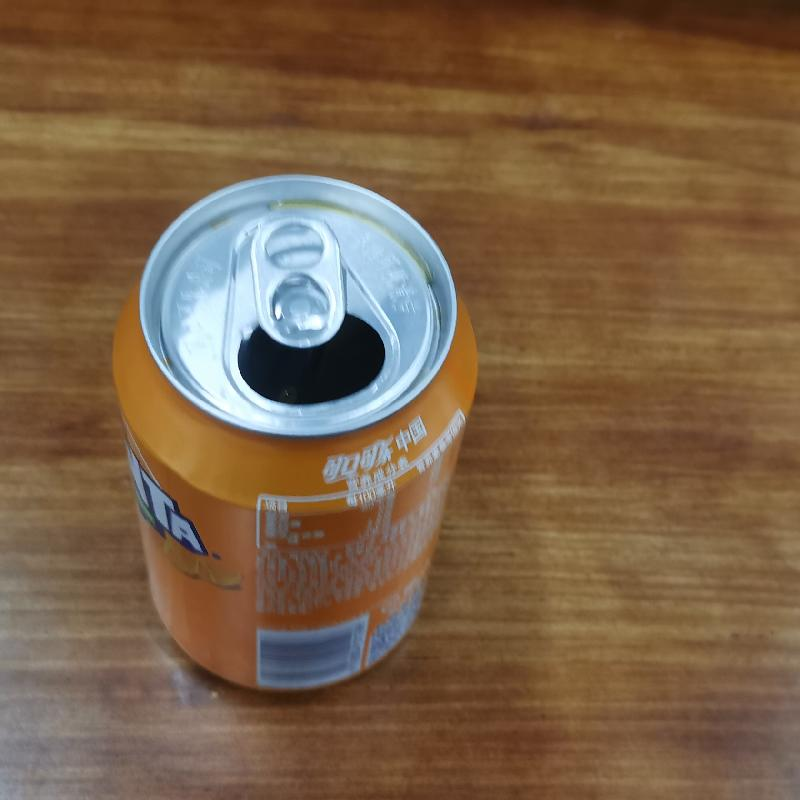cans: (98, 170, 484, 701)
